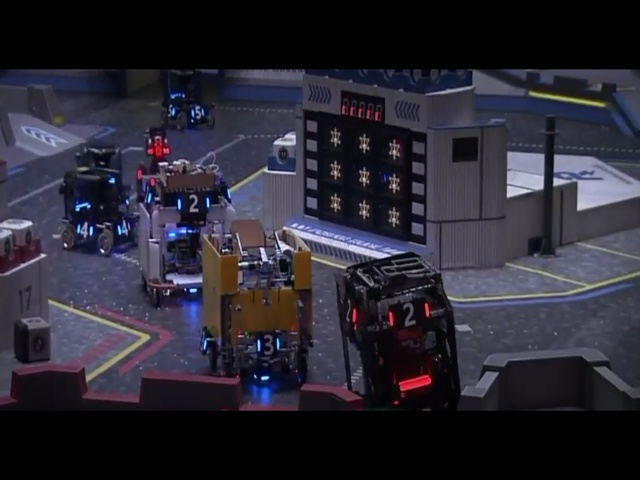plate: (381, 296, 431, 337), (171, 192, 214, 213), (72, 214, 98, 244), (339, 294, 360, 329), (251, 334, 281, 358), (194, 325, 213, 352), (187, 102, 206, 128), (140, 181, 157, 210), (114, 219, 132, 242), (165, 99, 175, 124)
